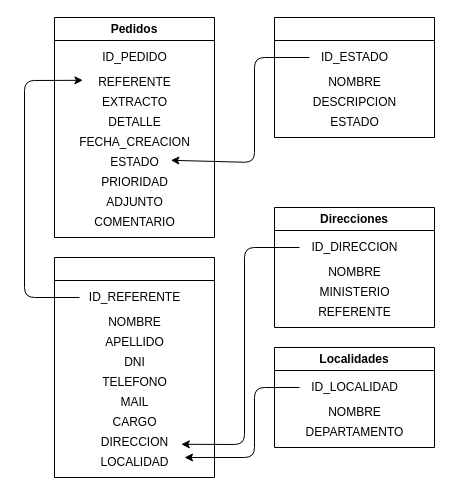
The diagram is 452 pixels wide and 495 high, and some of its shapes have lost their labels. The box of each missing label's shape, as (x1, y1, x2, y2) in pixels:
Estados: (274, 16, 434, 138)
Referentes: (54, 256, 214, 478)
